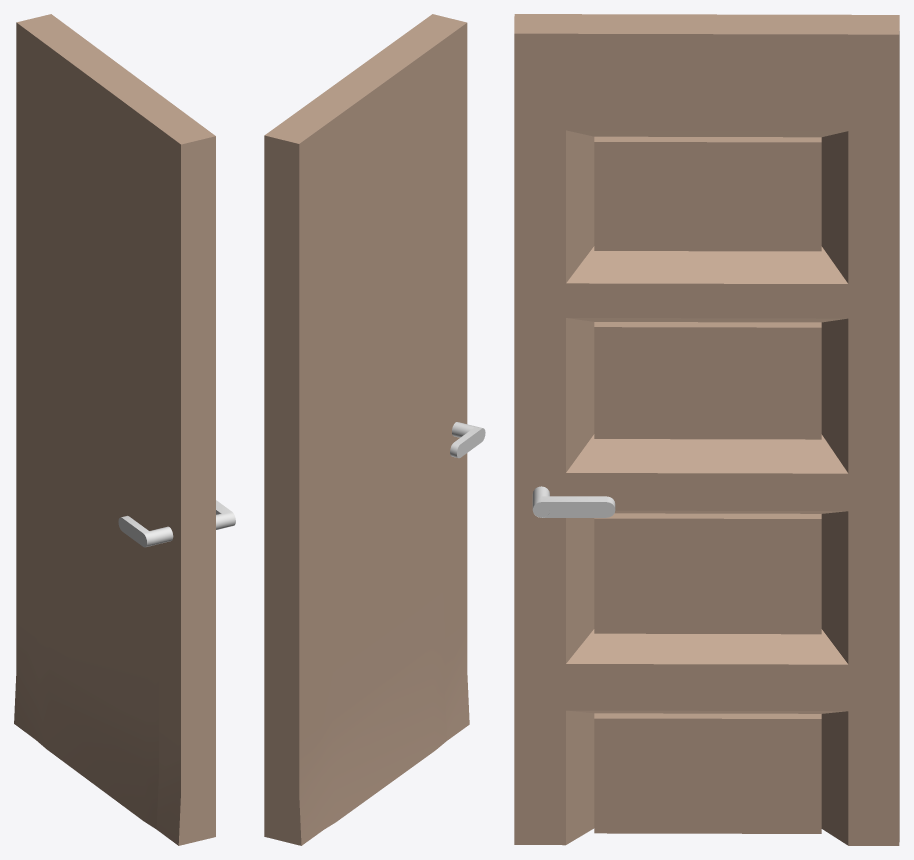
File: Untitled 1-door.glb
3 renders of one model, left to right at view 1: azimuth 30°, elevation 25°; view 2: azimuth 150°, elevation 25°; view 3: azimuth 270°, elevation 25°, orthographic. The views are drawn at different scales.
Parts seen in each view (by area): view 1: Cube.2, Cylinder; view 2: Cube.2, Cylinder; view 3: Cube.2, Cylinder.
Boxes of the visible parts, left/top/right/bottom form: Cube.2: left=14, top=14, right=215, bottom=845; Cylinder: left=118, top=500, right=235, bottom=547; Cube.2: left=264, top=14, right=469, bottom=845; Cylinder: left=450, top=422, right=485, bottom=458; Cube.2: left=514, top=14, right=899, bottom=845; Cylinder: left=532, top=486, right=615, bottom=517.
Bounding box in the file's own units: 0.5352 × 4.04 × 1.74.
